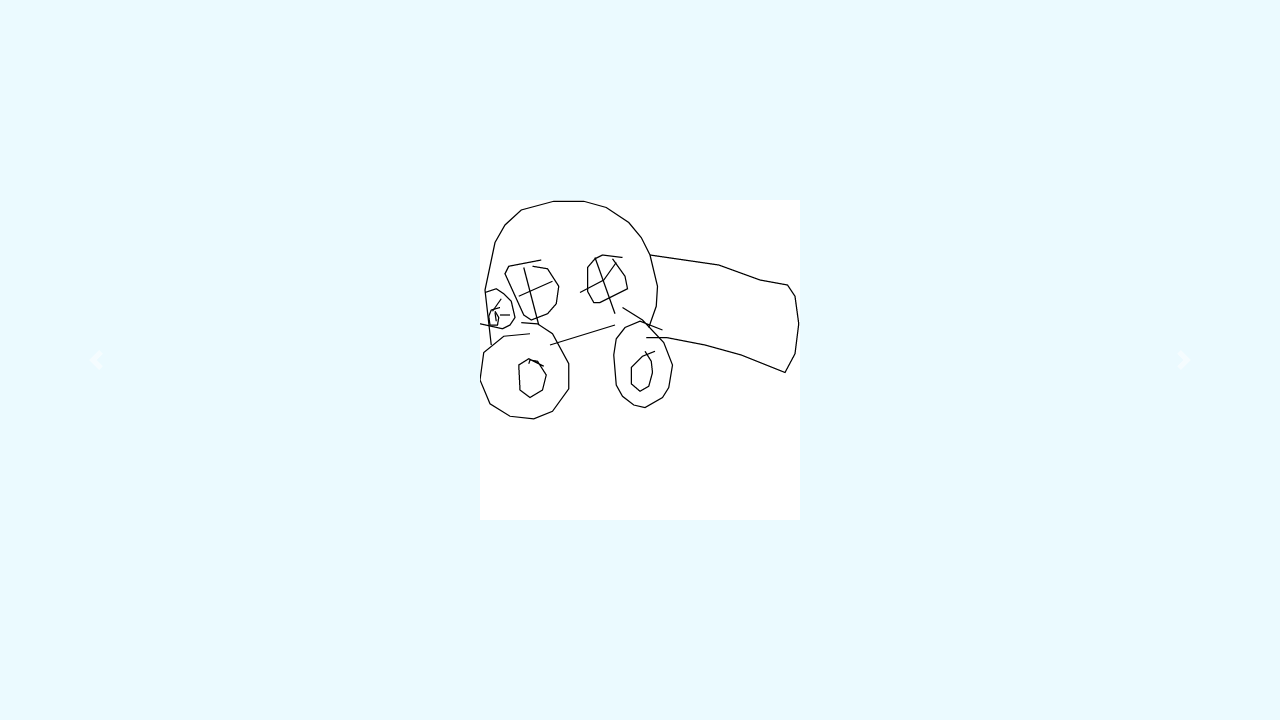car: (474, 199, 805, 425)
